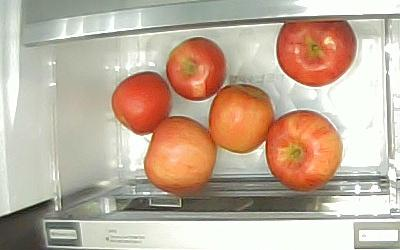apple: (265, 109, 342, 190), (144, 116, 217, 195), (276, 20, 357, 87), (207, 83, 272, 153), (111, 71, 171, 136), (166, 37, 226, 102)
